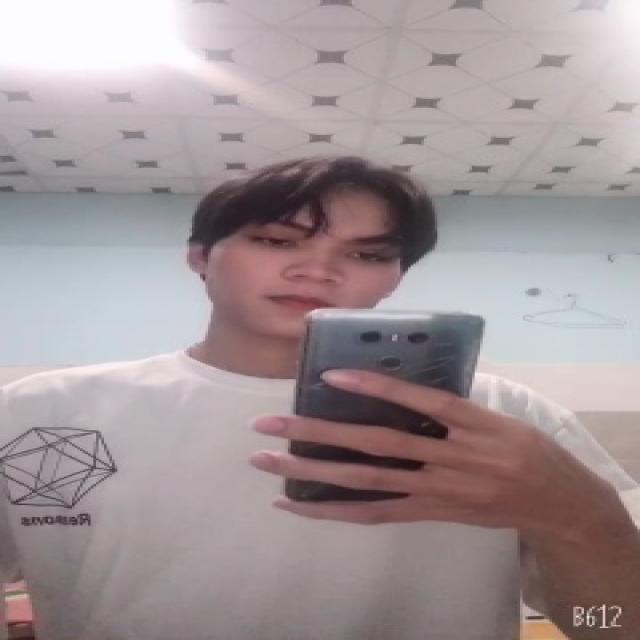Phone: (281, 299, 491, 503)
